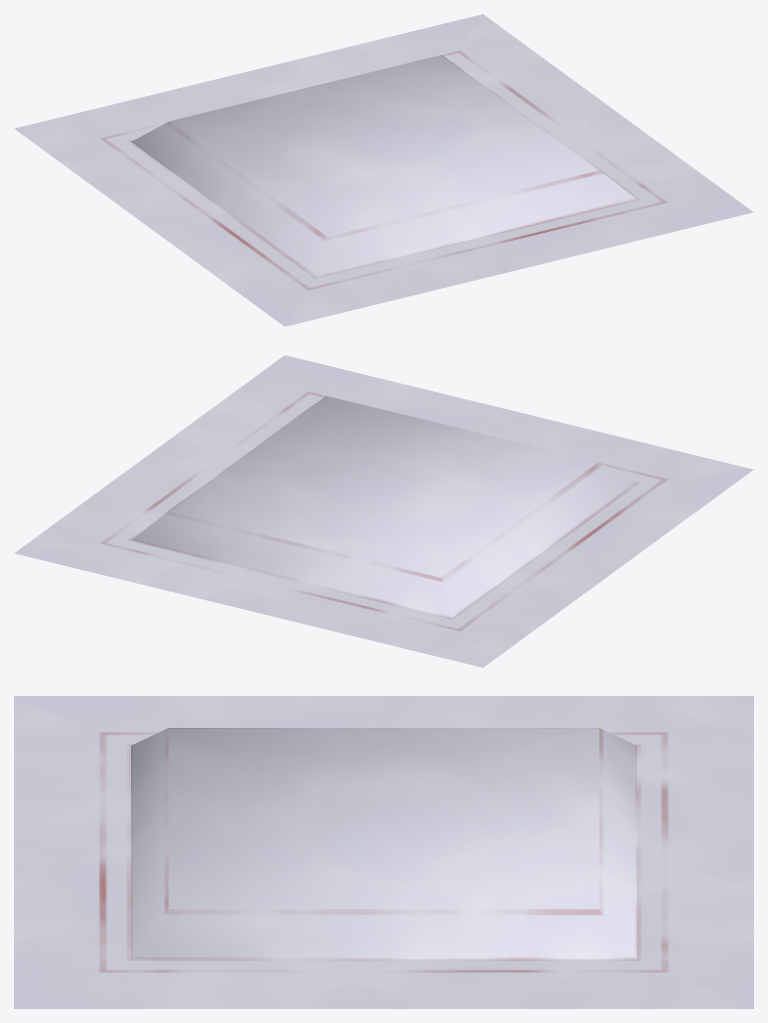
Rendered from middle_roof.glb.
3 renders of one model, top to bottom at view 1: azimuth 30°, elevation 25°; view 2: azimuth 150°, elevation 25°; view 3: azimuth 270°, elevation 25°, orthographic. The views are drawn at different scales.
Visible parts, largest first — view 1: Room_5_Cross_LowCeiling.001; view 2: Room_5_Cross_LowCeiling.001; view 3: Room_5_Cross_LowCeiling.001.
Boxes of the visible parts, box(x1,y1,x2,y2) form: Room_5_Cross_LowCeiling.001: box(14, 14, 753, 326); Room_5_Cross_LowCeiling.001: box(14, 355, 753, 667); Room_5_Cross_LowCeiling.001: box(14, 696, 753, 1008).
Bounding box in the file's own units: 6 × 0.3 × 6.
1 material, 1 textured.
